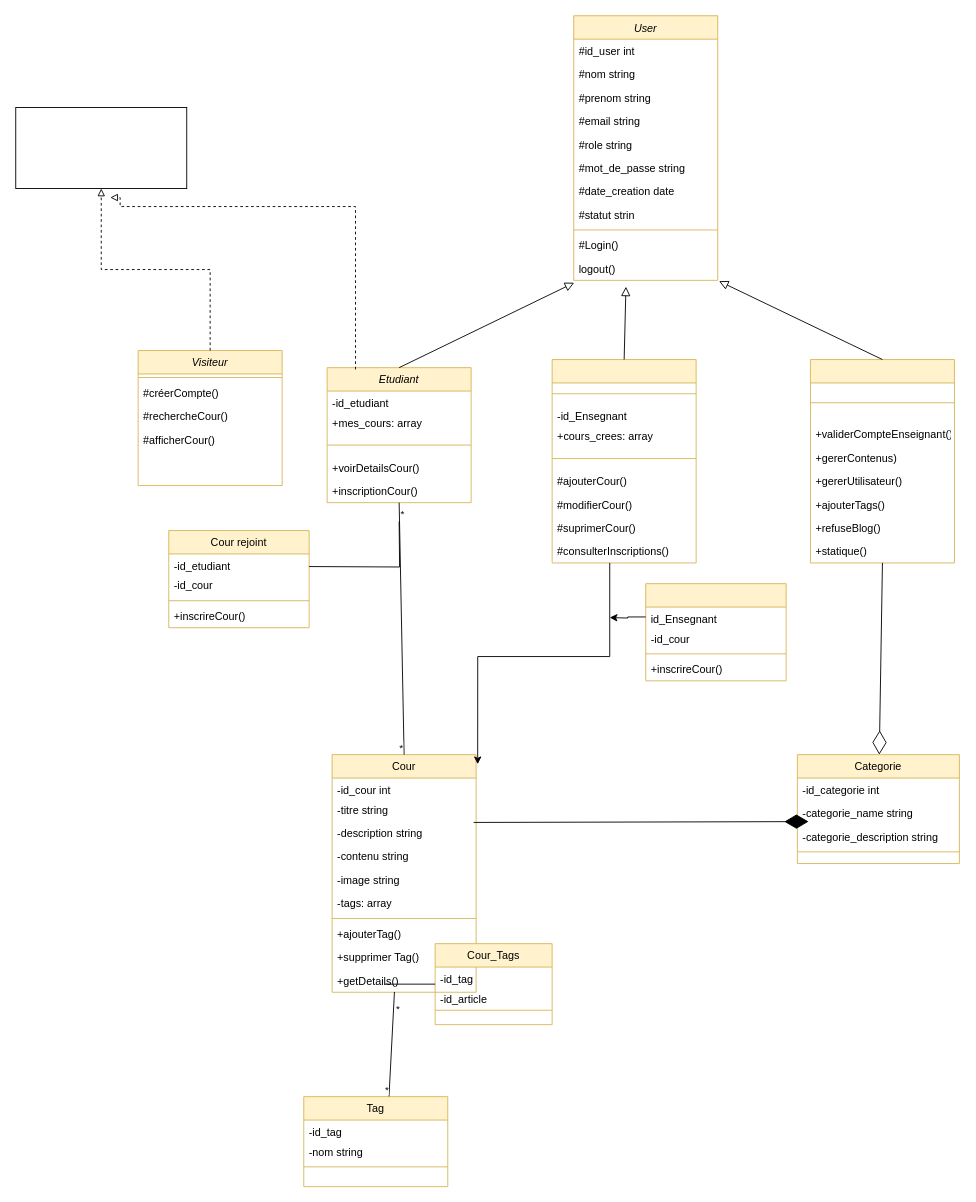
Image size: 976x1202. Some labels were removed from this diagram. The shapes that lost their labels are listed below. From the top down, each one's box as (x1, y1, x2, y2) in pixels, then its label:
(15, 107, 187, 189): <<Interface>> Interface + consulter_catalogue(); + rechercher_cours();
(551, 359, 696, 563): Enseignant
(810, 359, 954, 563): Administrateur
(645, 583, 786, 681): creer_cour
